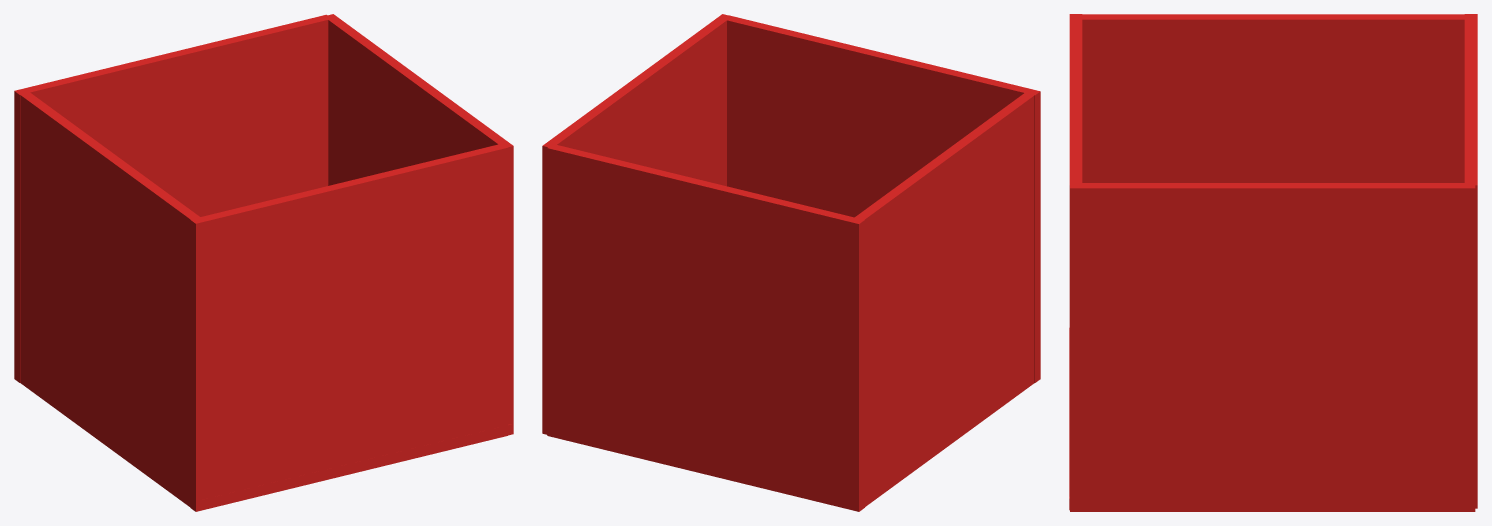
Rendered from redbox2untitled.fbx.
3 renders of one model, left to right at view 1: azimuth 30°, elevation 25°; view 2: azimuth 150°, elevation 25°; view 3: azimuth 270°, elevation 25°, orthographic. The views are drawn at different scales.
Visible parts, largest first — view 1: Cube.003; view 2: Cube.003; view 3: Cube.003.
Boxes of the visible parts, x1,y1,x2,y2 form: Cube.003: (14, 14, 513, 511); Cube.003: (542, 14, 1040, 511); Cube.003: (1069, 14, 1477, 511).
Bounding box in the file's own units: 1418 × 1227 × 1402.
